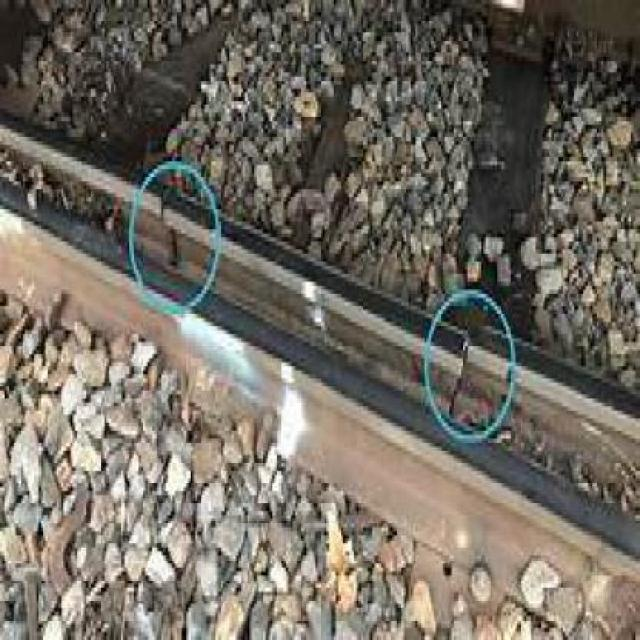defective: (95, 121, 616, 579)
